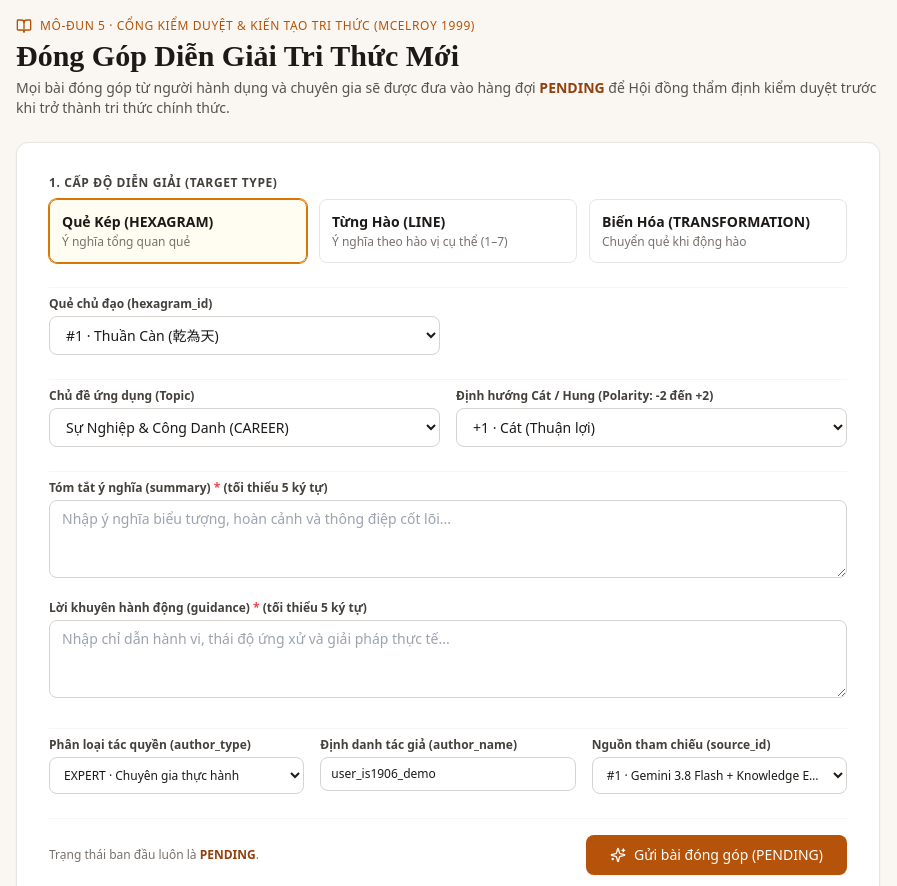
Test: Gate 10: Quản Trị Tri Thức & Kiểm Duyệt (Knowledge Governance) › 5. Kiểm tra trường điều kiện và gửi Form Đóng Góp (ContributePage) › chuyển đổi trường theo target_type: HEXAGRAM ẩn line_position, LINE hiện line_position 1-7
Check: the field labelled "Vị trí hào (line_position: 1–7)" is not shown
# Chọn Từng Hào (LINE)
Click the button "Từng Hào (LINE) Ý nghĩa theo hào vị cụ thể (1–7)".
click(448, 231)  # box [319,199,577,263]
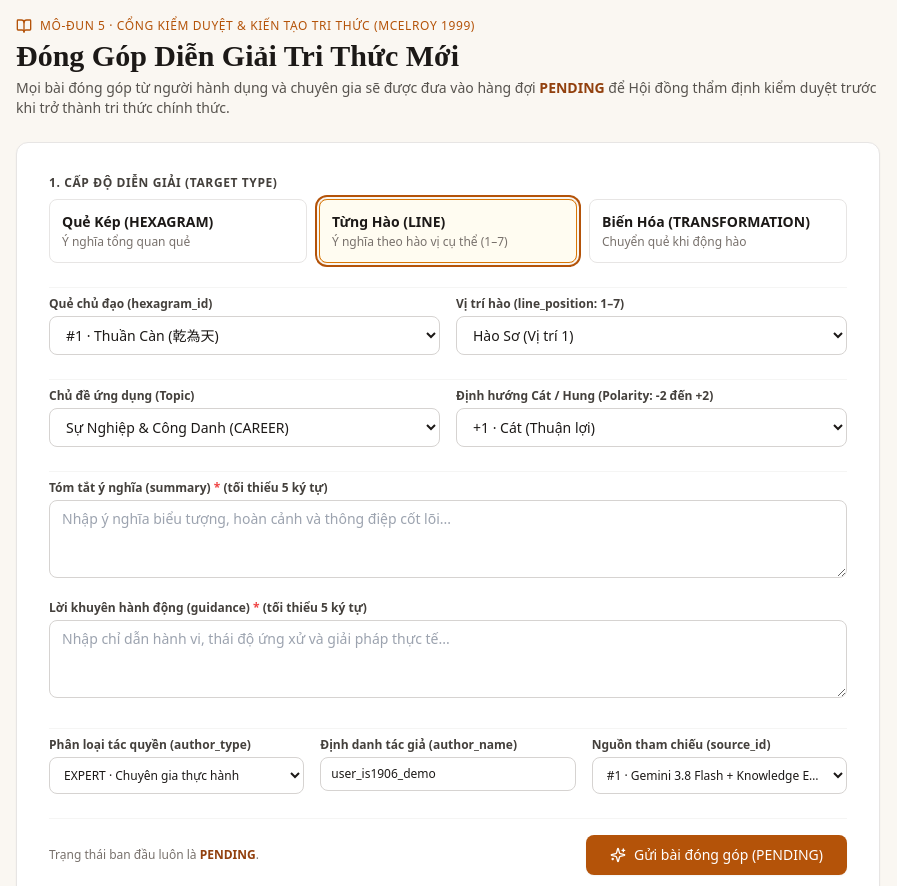
Check: the dropdown labelled "Vị trí hào (line_position: 1–7)" is shown, box [456,316,847,355]
